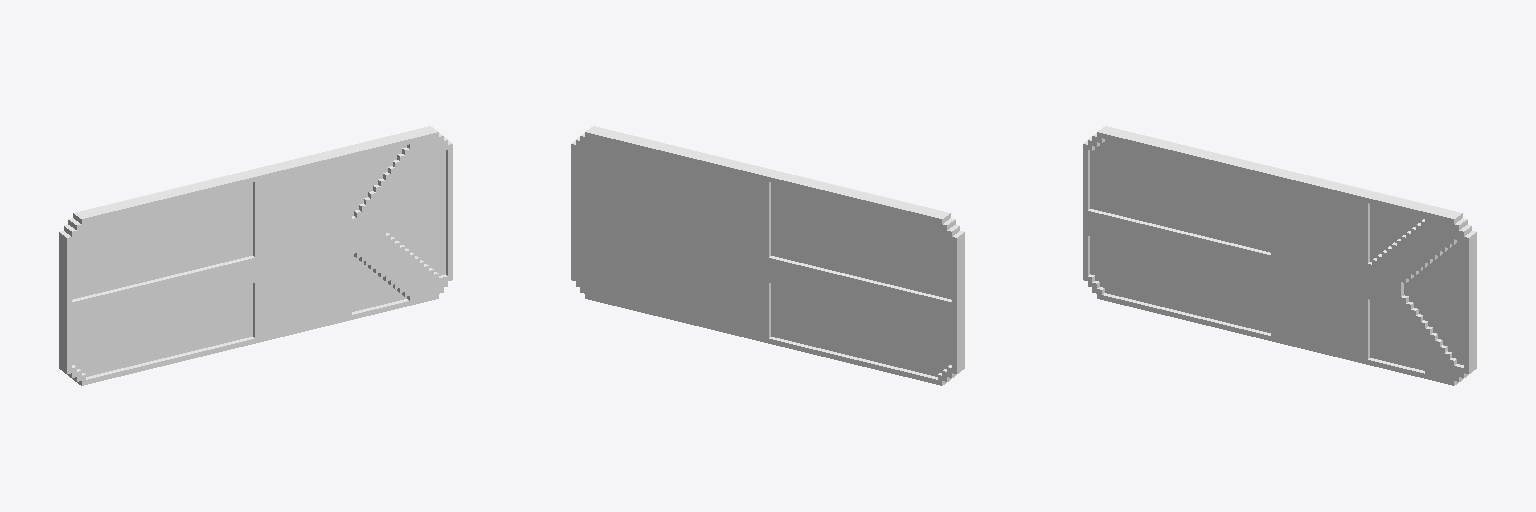
Rendered from mesh_hanger_door.obj.
The picture shows the model from 3 angles: view 1: azimuth 30°, elevation 25°; view 2: azimuth 150°, elevation 25°; view 3: azimuth 330°, elevation 25°; orthographic projection.
Visible parts, largest first — view 1: object 1; view 2: object 1; view 3: object 1.
Boxes of the visible parts, <box> form: object 1: <box>59,126,452,385</box>; object 1: <box>571,126,964,385</box>; object 1: <box>1083,126,1476,385</box>.
Bounding box in the file's own units: 8 × 3.3 × 0.3.